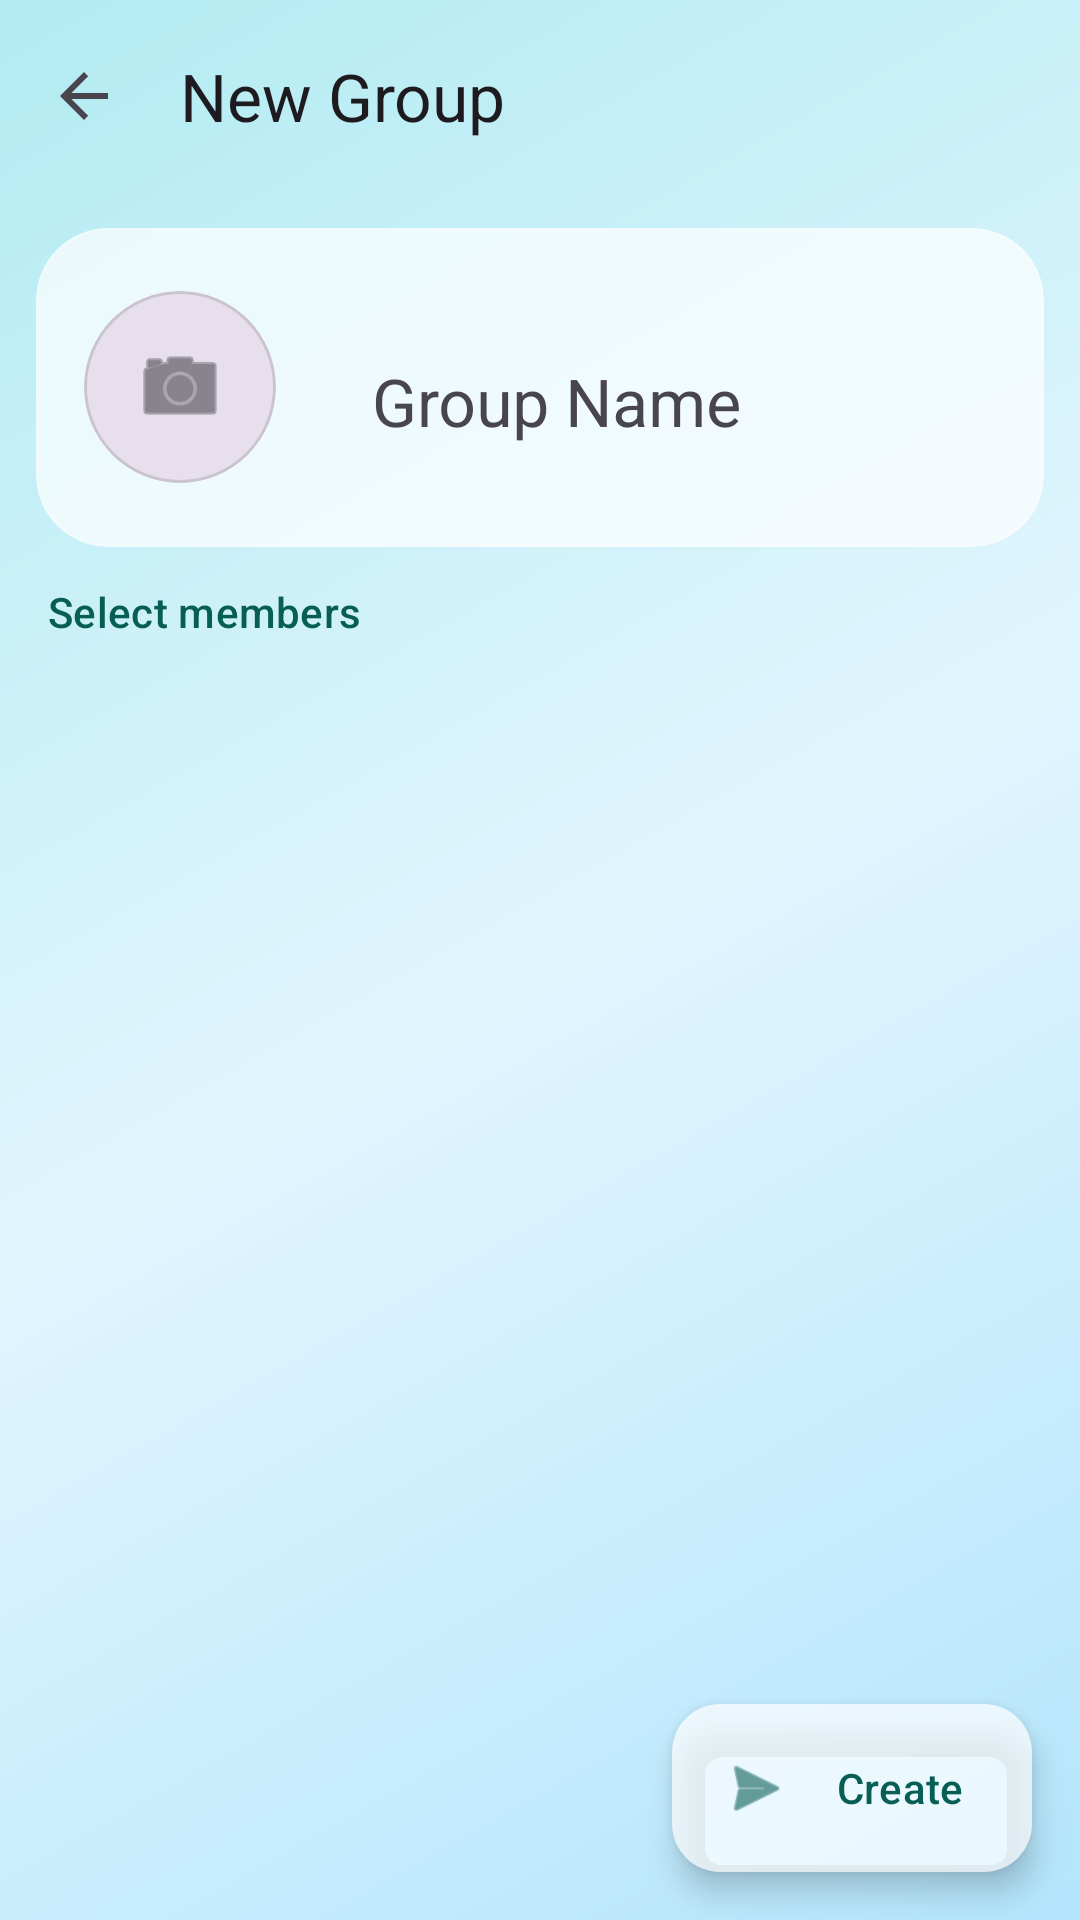

Screen size 1080 × 1920. Icon name, then its box in pixels as (x1, y1, x2, y2):
camera: (84, 291, 276, 483)
